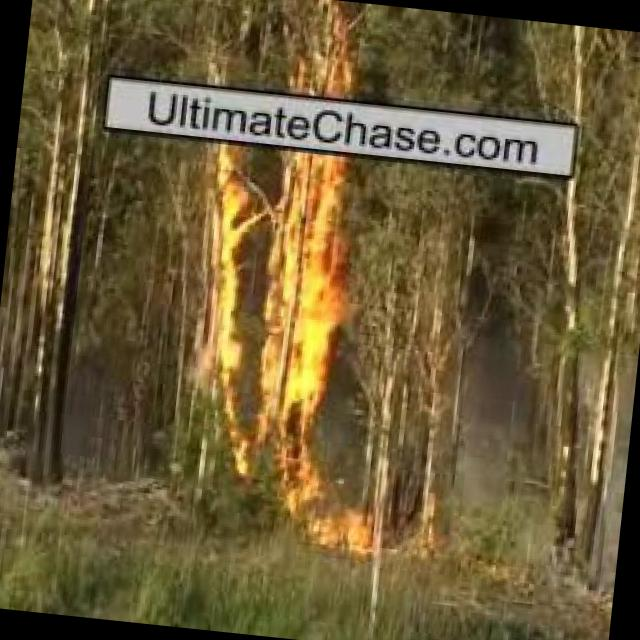Fire: (180, 147, 358, 480), (256, 480, 379, 552), (286, 14, 366, 99)
